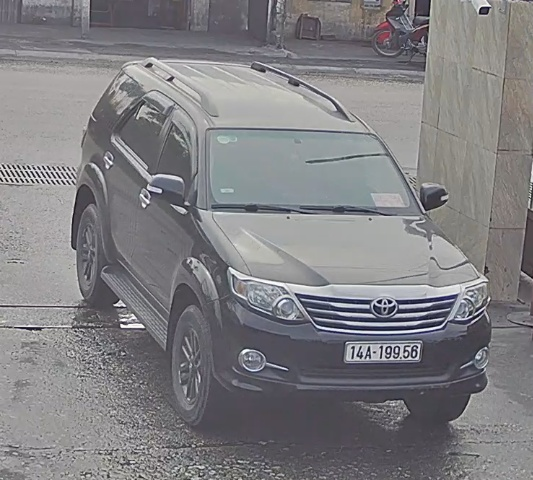vehicle plate: (340, 337, 422, 365)
